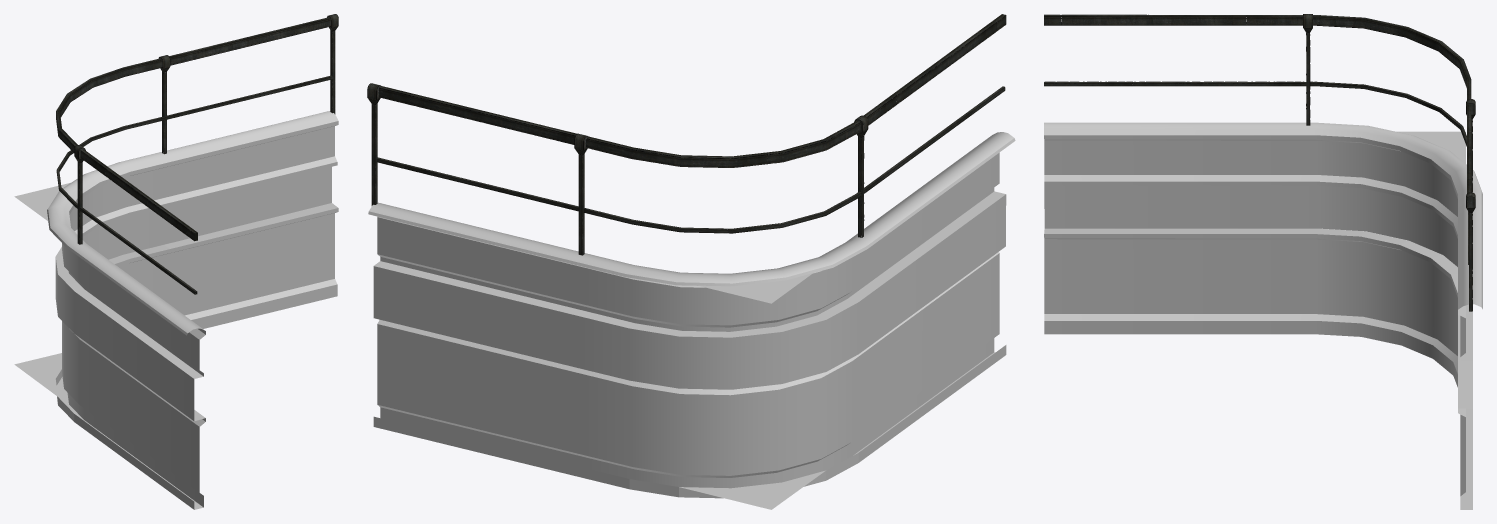
File: engineroom_balcony_corner_inner.dae
3 views of the same model, side by side, from view 1: azimuth 30°, elevation 25°; view 2: azimuth 150°, elevation 25°; view 3: azimuth 270°, elevation 25° (orthographic). The views are drawn at different scales.
Parts seen in each view (by area): view 1: balcony_corner_inner_metal, balcony_corner_inner_bricks, balcony_corner_inner_rail, balcony_corner_inner_floor; view 2: balcony_corner_inner_metal, balcony_corner_inner_bricks, balcony_corner_inner_rail, balcony_corner_inner_floor; view 3: balcony_corner_inner_metal, balcony_corner_inner_bricks, balcony_corner_inner_rail, balcony_corner_inner_floor.
Boxes of the visible parts, x1=… form: balcony_corner_inner_metal: x1=47, y1=111, x2=338, y2=509; balcony_corner_inner_bricks: x1=55, y1=167, x2=331, y2=420; balcony_corner_inner_rail: x1=56, y1=14, x2=338, y2=294; balcony_corner_inner_floor: x1=14, y1=182, x2=70, y2=396; balcony_corner_inner_metal: x1=368, y1=132, x2=1015, y2=498; balcony_corner_inner_bricks: x1=373, y1=194, x2=1006, y2=389; balcony_corner_inner_rail: x1=367, y1=14, x2=1006, y2=255; balcony_corner_inner_floor: x1=679, y1=273, x2=825, y2=509; balcony_corner_inner_metal: x1=1044, y1=122, x2=1482, y2=509; balcony_corner_inner_bricks: x1=1044, y1=185, x2=1457, y2=266; balcony_corner_inner_rail: x1=1044, y1=14, x2=1475, y2=311; balcony_corner_inner_floor: x1=1396, y1=131, x2=1465, y2=163.
Bounding box in the file's own units: 421 × 331 × 417.
